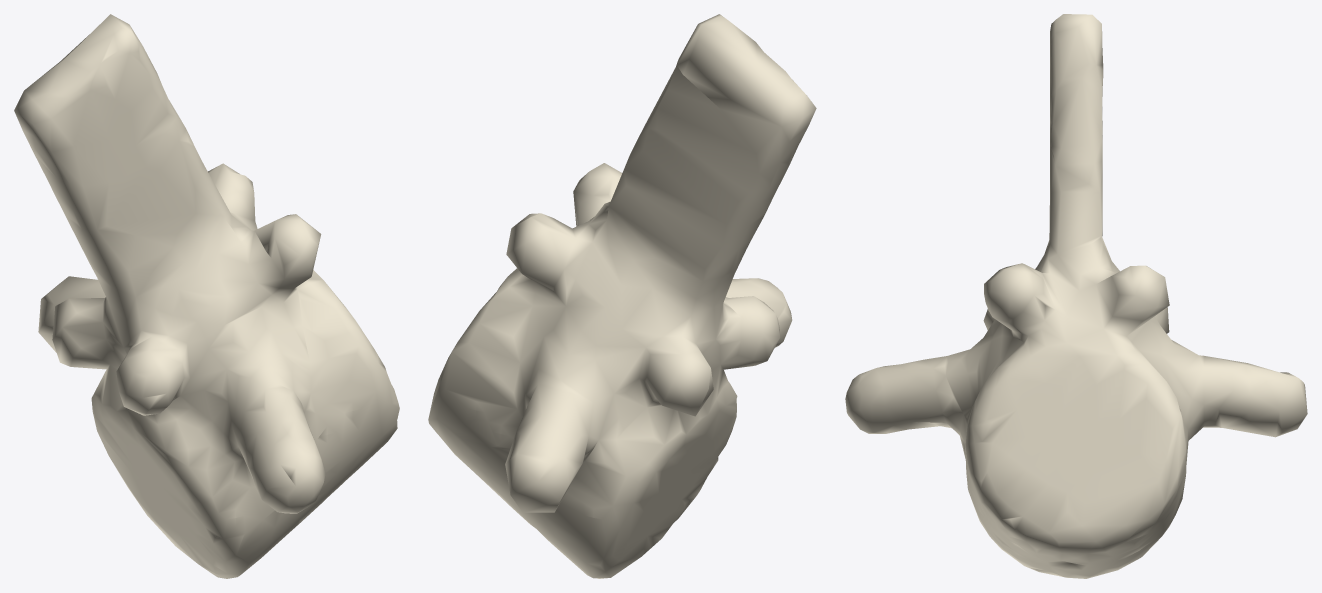
The model's file is cervical_7.glb.
3 views of the same model, side by side, from view 1: azimuth 30°, elevation 25°; view 2: azimuth 150°, elevation 25°; view 3: azimuth 270°, elevation 25° (orthographic). The views are drawn at different scales.
Visible parts, largest first — view 1: geometry_0; view 2: geometry_0; view 3: geometry_0.
Part boxes in pixels (bbox=[...]): geometry_0: bbox=[14, 14, 399, 578]; geometry_0: bbox=[428, 14, 816, 578]; geometry_0: bbox=[845, 14, 1307, 578].
Bounding box in the file's own units: 0.1685 × 0.2622 × 0.2098.
